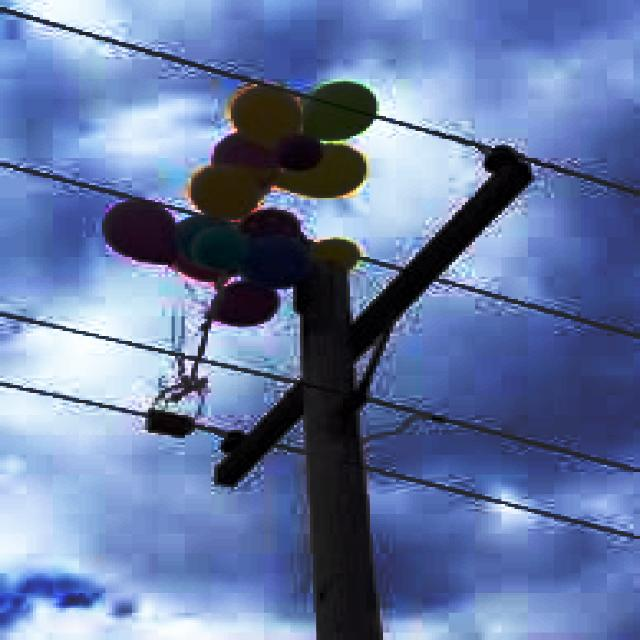obstruction: (102, 200, 356, 324), (231, 82, 373, 195)
poles: (214, 146, 528, 638)
wires: (0, 7, 310, 99), (366, 395, 637, 472), (369, 465, 637, 539), (435, 277, 637, 336), (0, 309, 191, 358), (0, 378, 148, 418), (515, 151, 637, 195), (0, 161, 139, 198), (376, 114, 488, 153), (198, 358, 290, 383), (360, 257, 402, 272), (191, 420, 228, 437), (162, 203, 191, 213), (274, 442, 297, 452)
